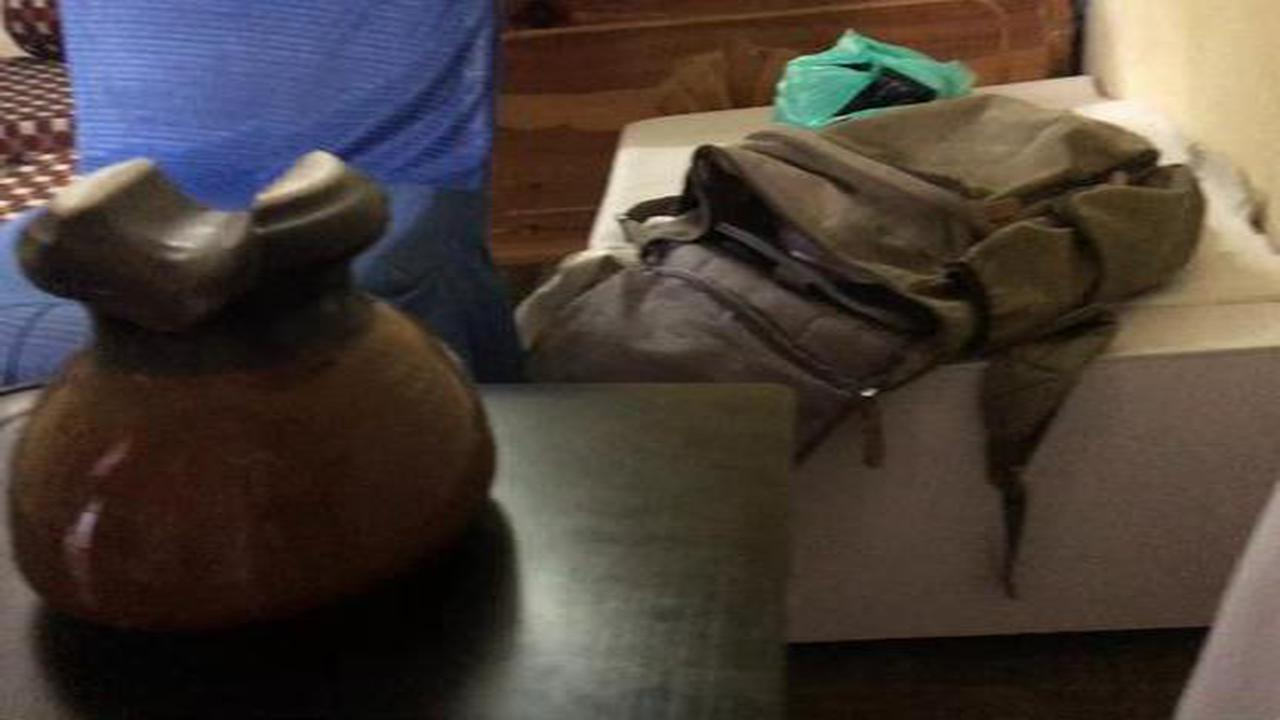insulator_pin: (7, 139, 508, 651)
